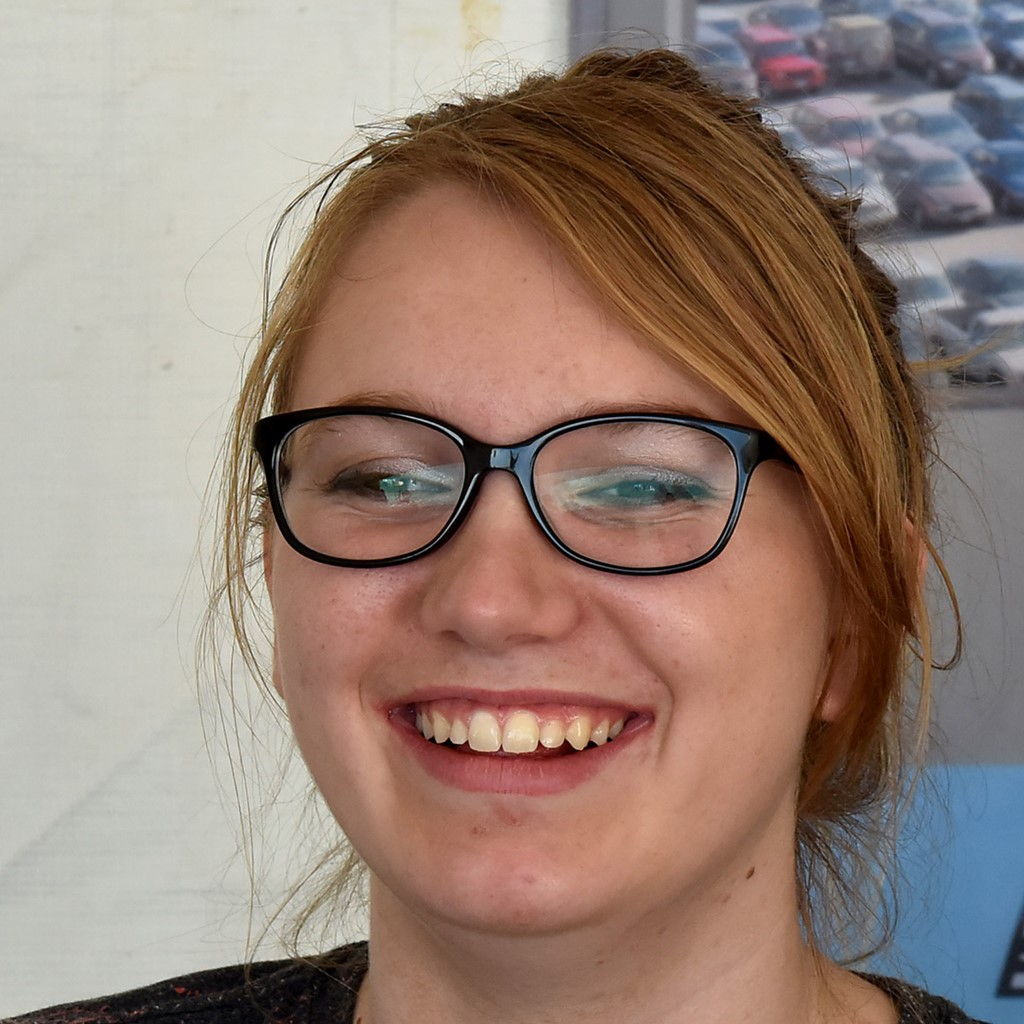sin_mascara: (253, 234, 881, 930)
